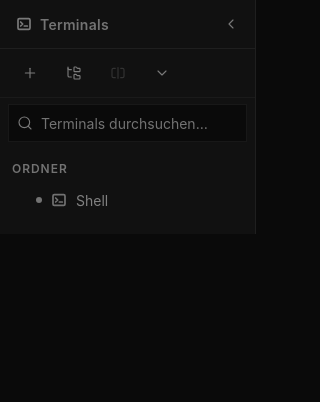
Test: TerminalSidebar › benennt ein Terminal über Rechtsklick und Umbenennen um
Right-click the text "Shell".
right_click(92, 200)  # box [76,192,108,208]
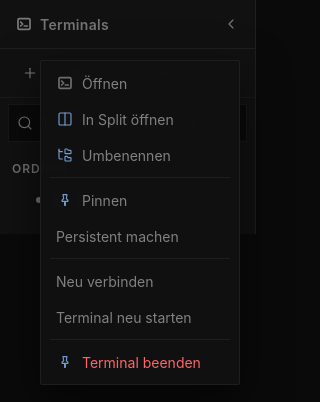
Click the menu item "Umbenennen".
click(140, 155)  # box [46,138,234,172]
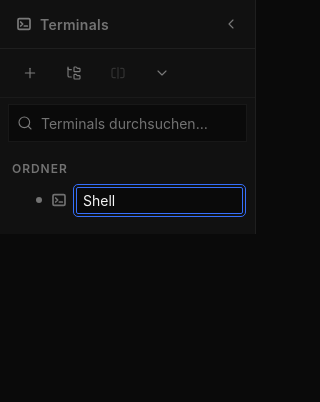
Replace the text in the field showing "Shell" with "Backend" at (160, 200), box [76,186,243,214]
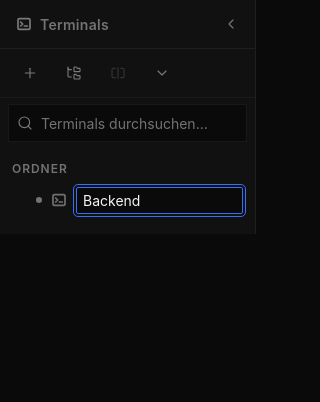
Press Enter in the field showing "Shell", box [76,186,243,214]
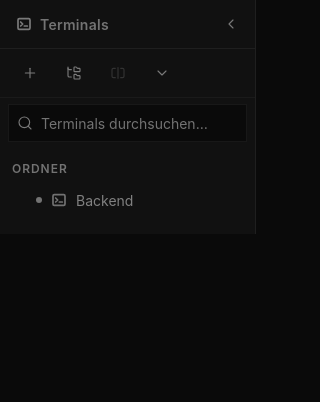
Expected: the text "Backend" is shown, [76,192,133,208]
